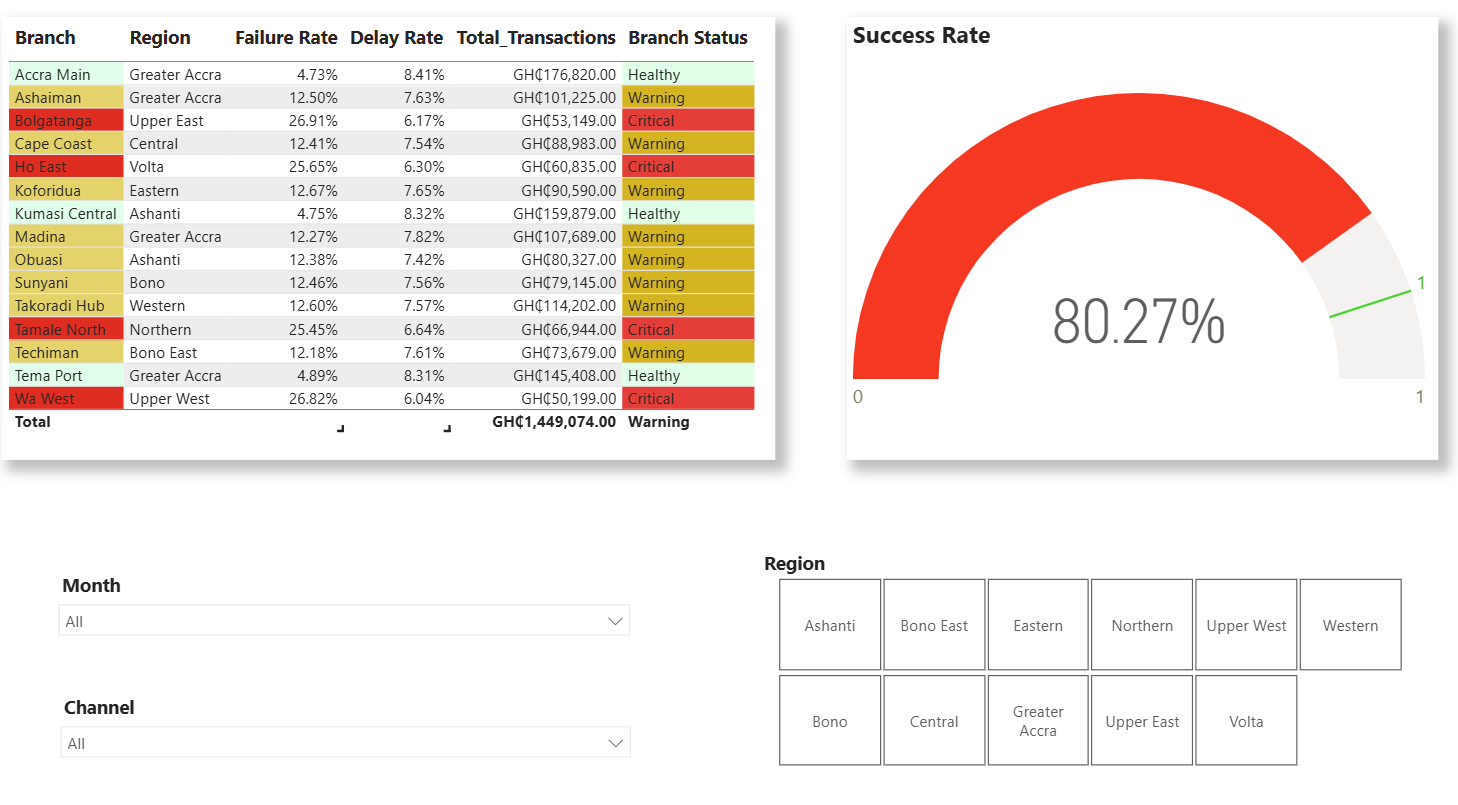

This screenshot's page, from the dashboard's own definition file:
{"tool":"powerbi","page":{"name":"Flagging panel","canvas":[1280,720],"ordinal":3},"visuals":[{"type":"tableEx","fields":{"Values":["Raw Data.Branch","Raw Data.Region","select","_Measures.Failure Rate","select1","_Measures.Delay Rate","Sum(Raw Data.Total_Transactions)","_Measures.Branch Status"]},"box":[14.6,21,667.1,382.1],"z":0},{"type":"gauge","title":"Success Rate","fields":{"Y":["_Measures.Success Rate"],"MinValue":["_Measures.Gauge min"],"TargetValue":["_Measures.Gauge target"],"MaxValue":["_Measures.Gauge max"]},"box":[743.6,21.1,510.1,381.9],"z":1000},{"type":"slicer","fields":{"Values":["Date Table.Month Name"]},"box":[53.4,493.9,513.3,81],"z":2000},{"type":"slicer","fields":{"Values":["Raw Data.Region"]},"box":[658.9,475.2,587,198.4],"z":3000},{"type":"slicer","fields":{"Values":["Raw Data.Channel"]},"box":[55.1,599.1,511.7,72.9],"z":4000}]}

Visuals, with their boxes in screenshot pixels (x1, y1, x2, y2), scaled from the page's 1280x720 canvas onto the 1458x805 screenshot:
tableEx - Raw Data.Branch x Raw Data.Region: bbox=[17, 23, 776, 451]
"Success Rate" gauge: bbox=[847, 24, 1428, 451]
slicer - Date Table.Month Name: bbox=[61, 552, 646, 643]
slicer - Raw Data.Region: bbox=[751, 531, 1419, 753]
slicer - Raw Data.Channel: bbox=[63, 670, 646, 751]
